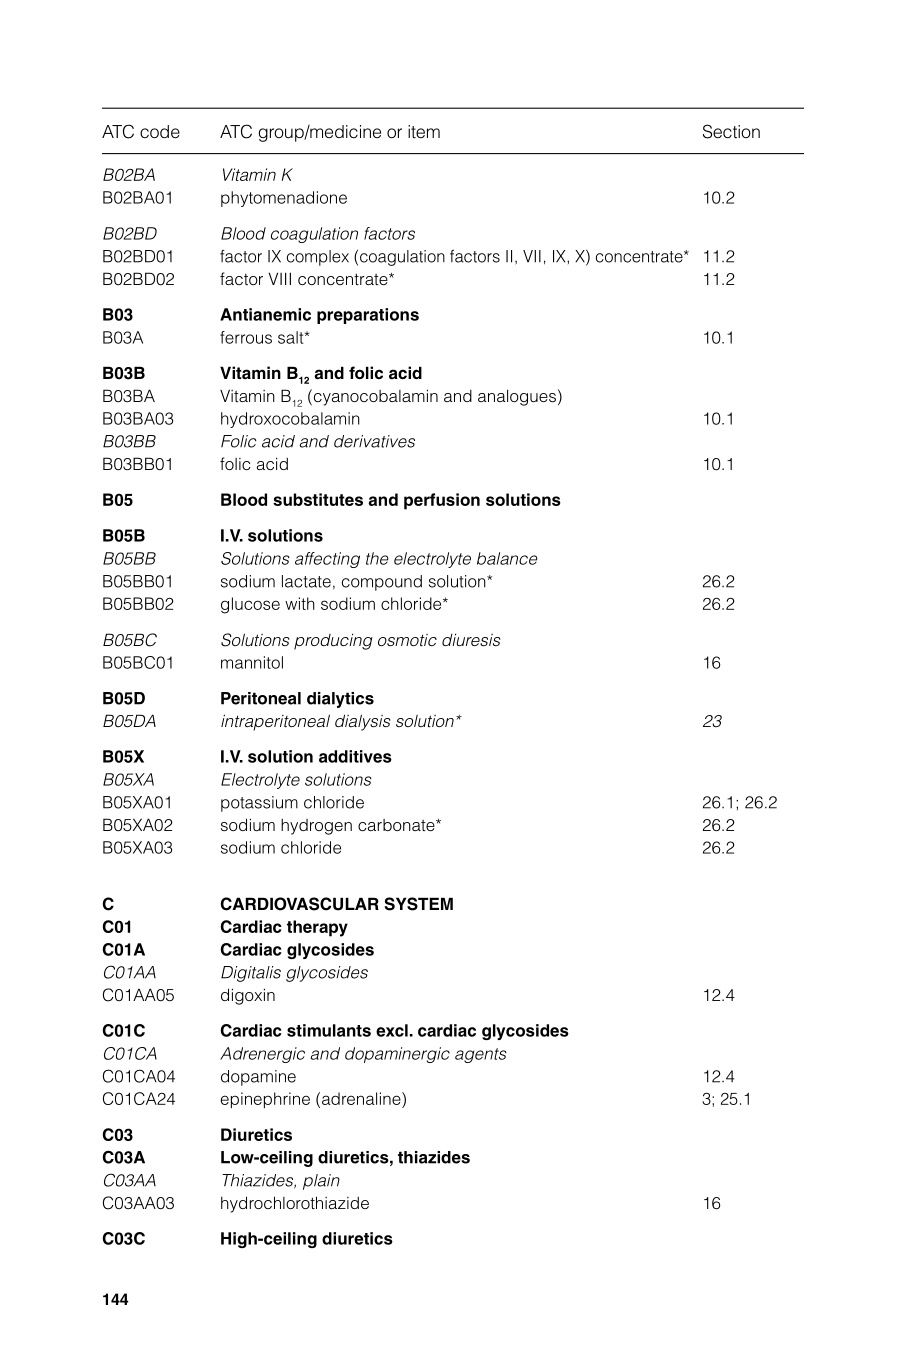partial_lined: (97, 106, 805, 1250)
